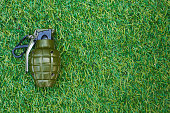e1: (16, 26, 61, 88)
